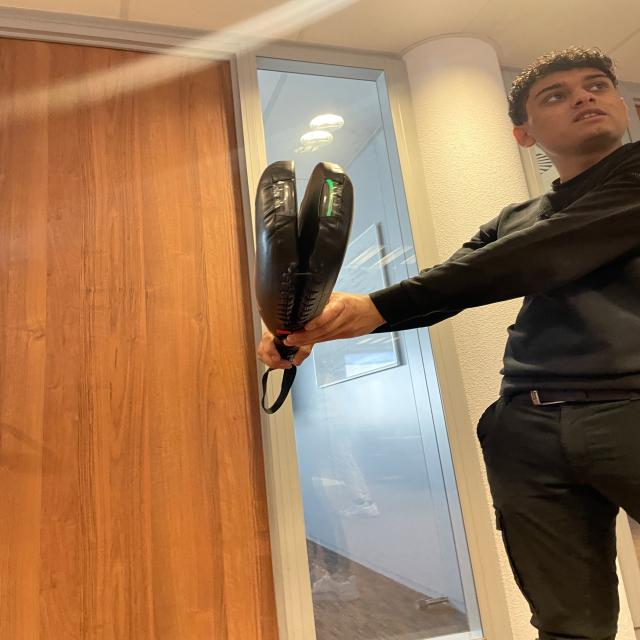paddle: (253, 157, 354, 336)
trigger: (319, 176, 342, 220)
